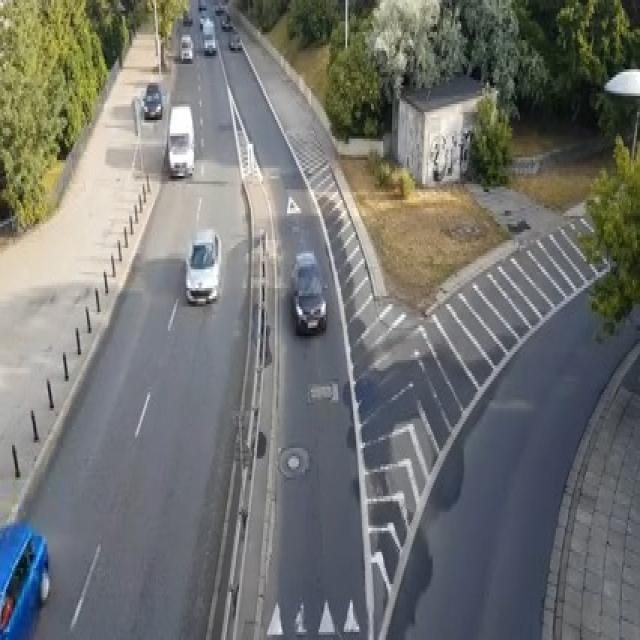car: (0, 520, 50, 637), (290, 251, 326, 333), (185, 227, 221, 304), (141, 83, 162, 117), (202, 19, 216, 53), (179, 32, 192, 61), (228, 32, 242, 51), (221, 13, 231, 30), (182, 8, 192, 24), (198, 13, 208, 27), (197, 0, 206, 8), (215, 3, 222, 13)
